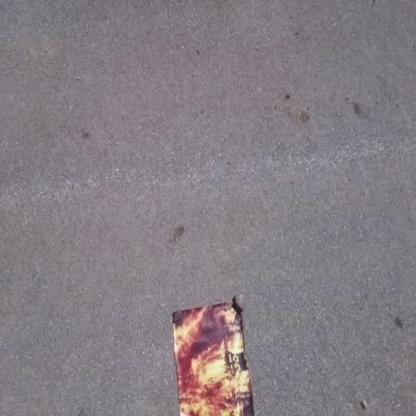fire-poster: (170, 296, 256, 415)
